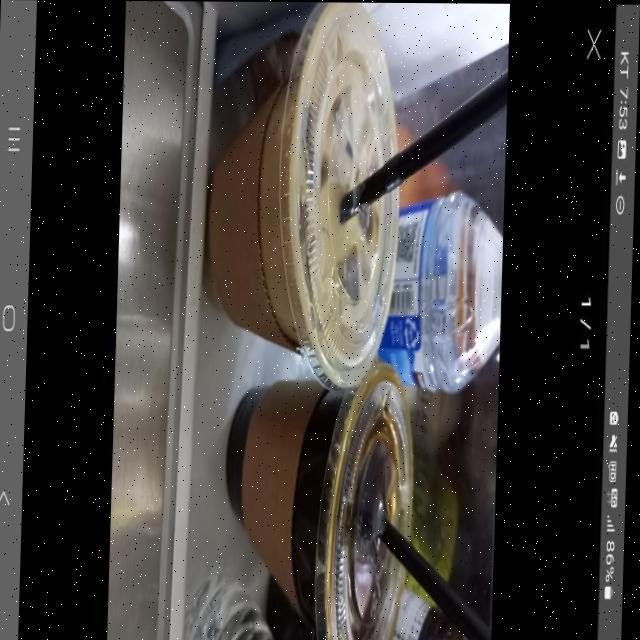cup: (180, 1, 406, 411), (182, 355, 425, 640)
